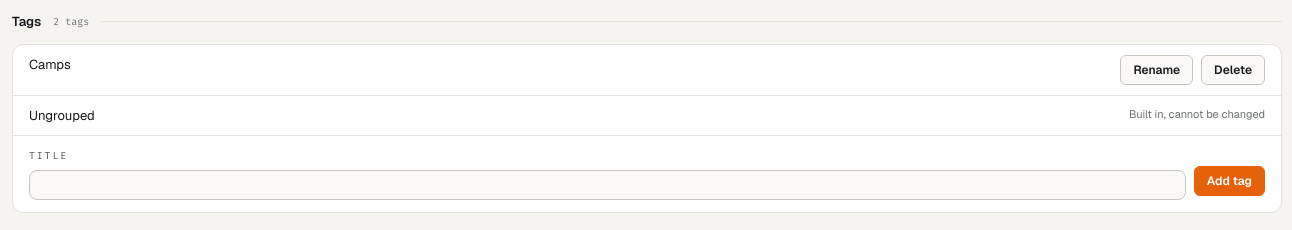
Scenario: ModelTagsCard › confirms deletion and reports a conflict
Step 1. Click the button with aria-label "Delete Camps" → (1233, 70), box 1201,54 -> 1265,84
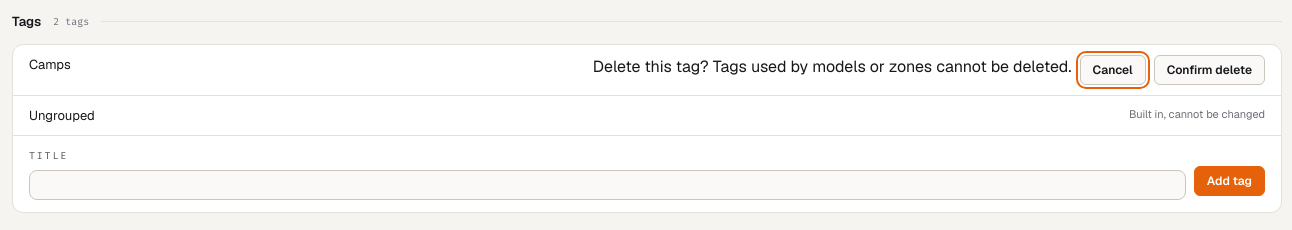
Step 2. Click the button with aria-label "Confirm delete Camps" → (1209, 70), box 1154,54 -> 1265,84
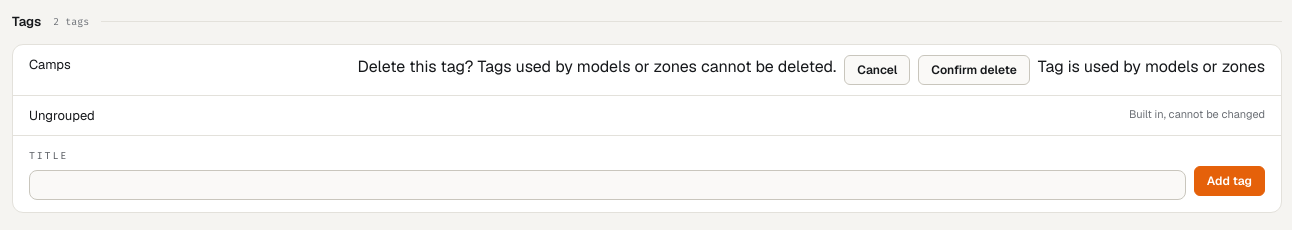
Result: the message shows "models or zones" at 1038,56 -> 1265,76
